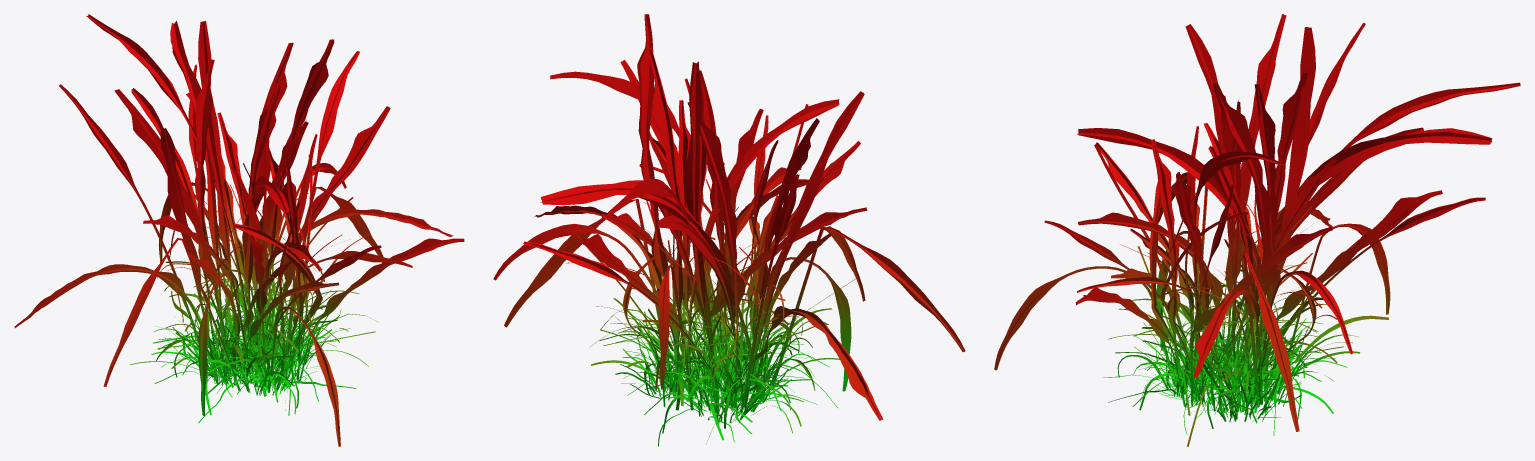
The model's file is Wheat_LOD0_Var1_smdoejyr.fbx.
3 renders of one model, left to right at view 1: azimuth 30°, elevation 25°; view 2: azimuth 150°, elevation 25°; view 3: azimuth 270°, elevation 25°, orthographic. The views are drawn at different scales.
Visible parts, largest first — view 1: _571n_Var1_LOD0; view 2: _571n_Var1_LOD0; view 3: _571n_Var1_LOD0.
Part boxes in pixels (box(x1,y1,x2,y2)): _571n_Var1_LOD0: box(14, 14, 464, 446); _571n_Var1_LOD0: box(493, 14, 965, 446); _571n_Var1_LOD0: box(994, 14, 1520, 446).
Bounding box in the file's own units: 73.12 × 66.04 × 81.32.
